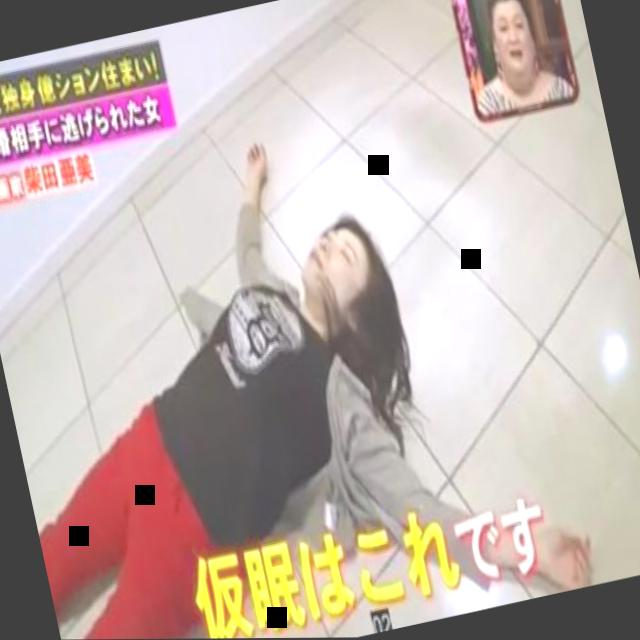Fall-Detected: (0, 78, 471, 640)
